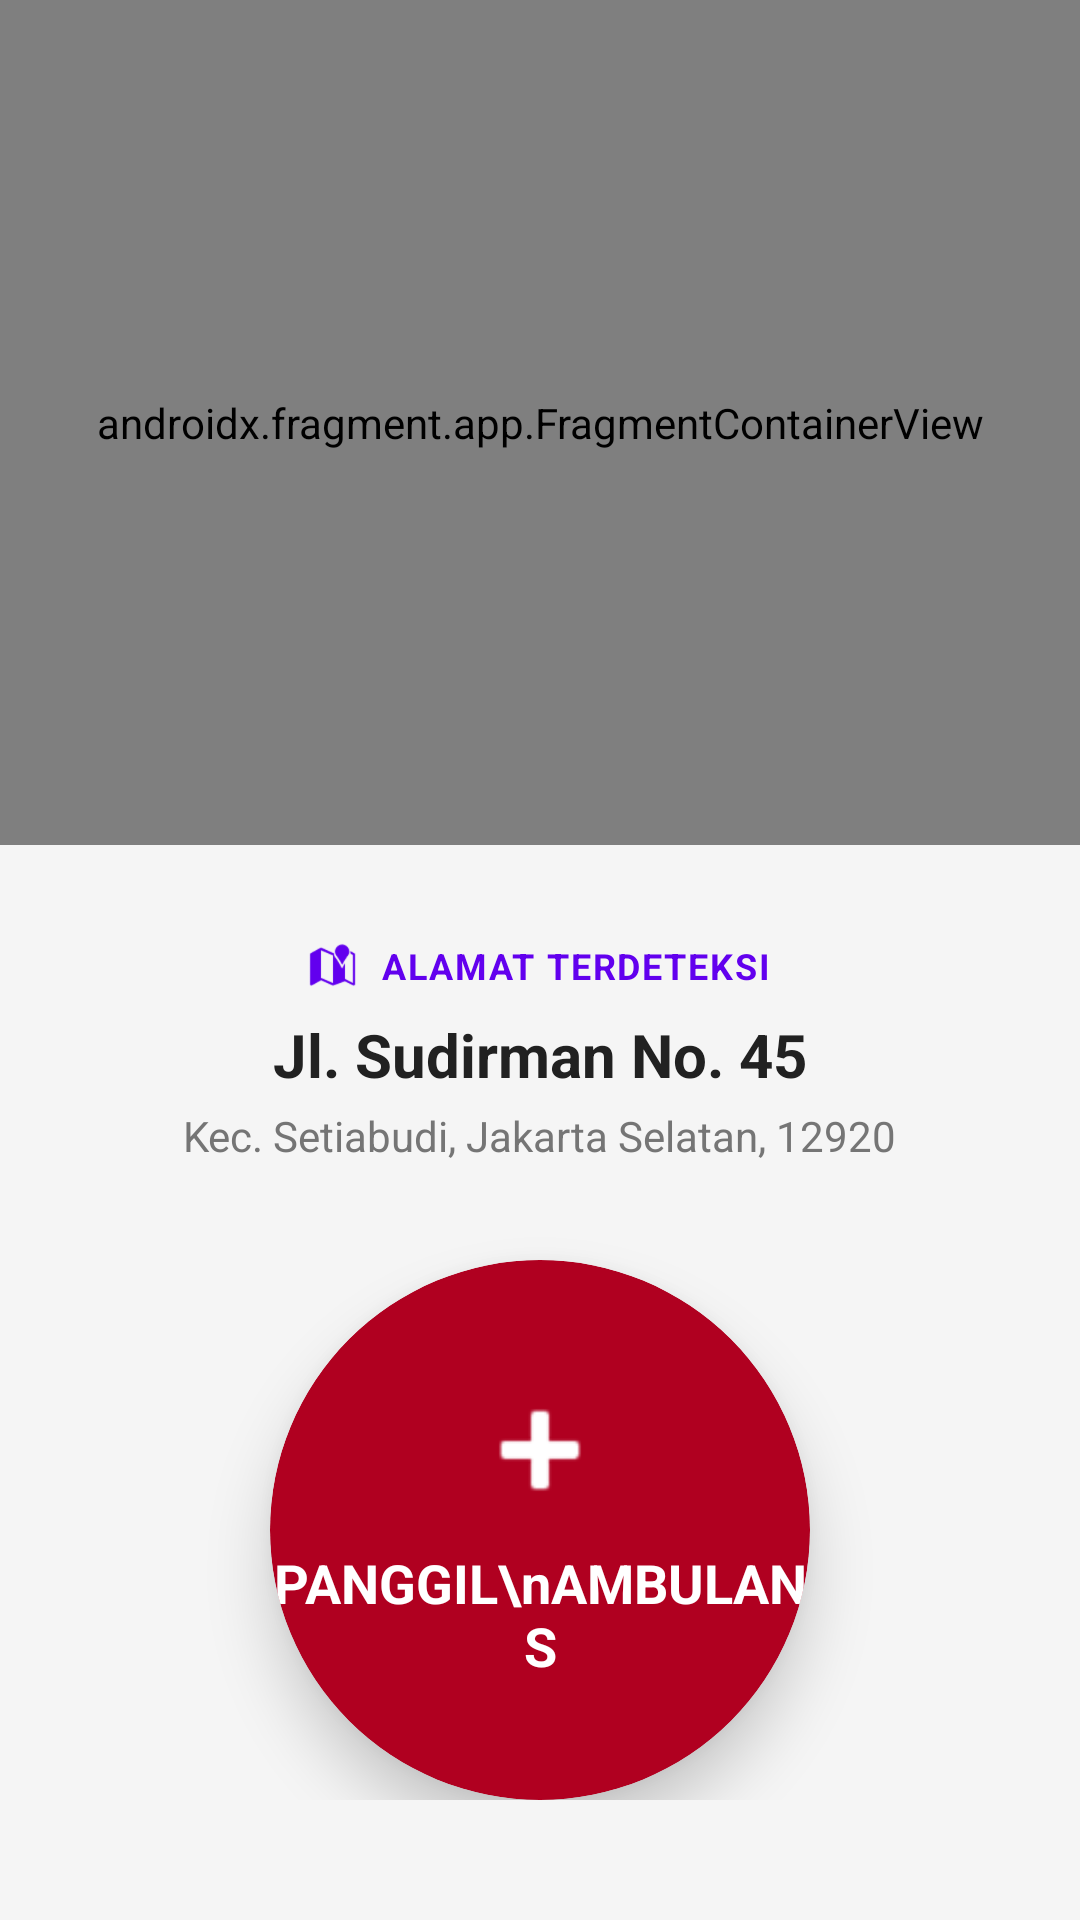

Screen size 1080 x 1920. Icon name, then its box in pixels as [x1,y1,x2,y2]:
add: [499,1409,581,1491]
map: [309,944,356,986]
